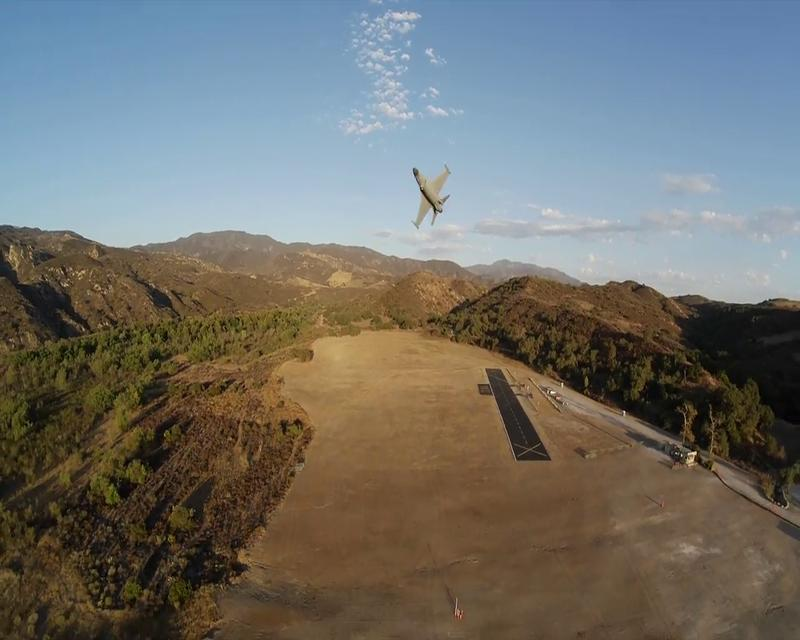UAV: (411, 163, 452, 231)
